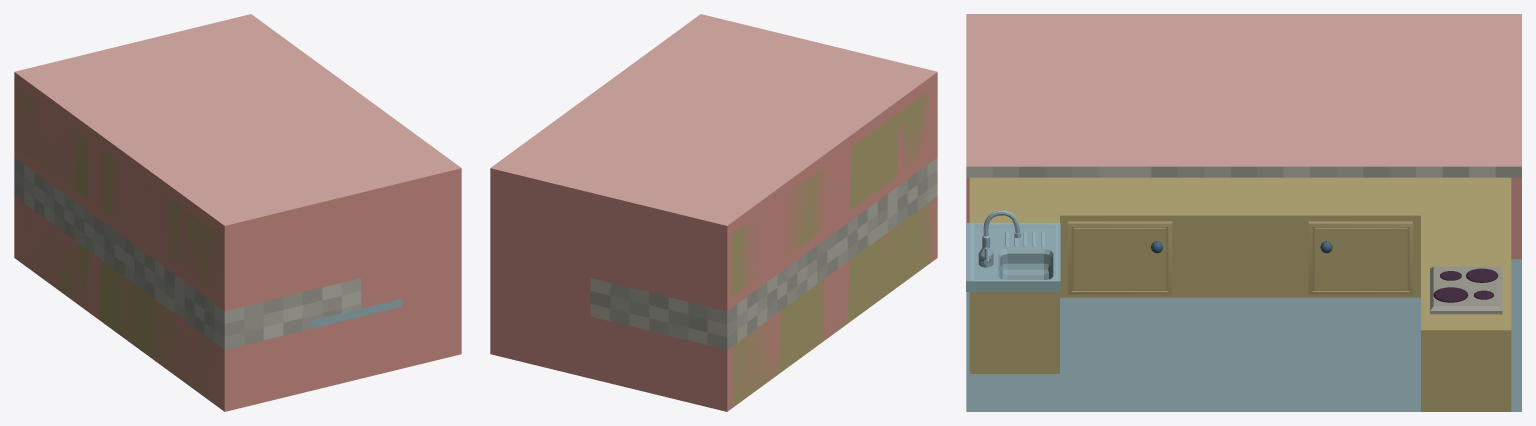
File: Room_Kitchen.fbx
3 views of the same model, side by side, from view 1: azimuth 30°, elevation 25°; view 2: azimuth 150°, elevation 25°; view 3: azimuth 270°, elevation 25° (orthographic). The views are drawn at different scales.
Parts seen in each view (by area): view 1: Room_Kitchen, pCube4, pCube5, SInk; view 2: Room_Kitchen, pCube4, pCube5; view 3: Room_Kitchen, pCube4, Cupbaord_Door_07, Cupbaord_Door_06, SInk.
Part boxes in pixels (x1,y1,x2,y2): Room_Kitchen: [14, 14, 461, 411]; pCube4: [18, 199, 222, 402]; pCube5: [18, 87, 223, 296]; SInk: [311, 299, 402, 328]; Room_Kitchen: [490, 14, 937, 411]; pCube4: [731, 200, 934, 406]; pCube5: [731, 90, 930, 296]; Room_Kitchen: [966, 14, 1521, 411]; pCube4: [969, 177, 1511, 411]; Cupbaord_Door_07: [1068, 221, 1172, 294]; Cupbaord_Door_06: [1308, 221, 1412, 294]; SInk: [966, 210, 1060, 291].
Size of the model in its own units: 400 by 300 by 616.
